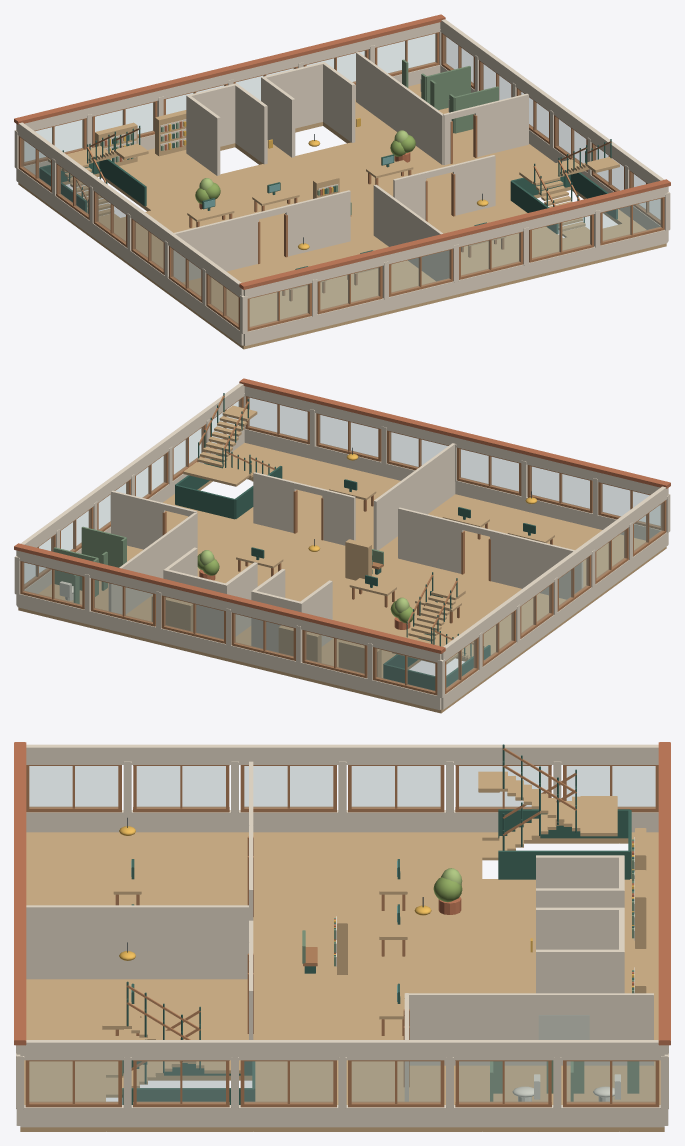
File: campus-3F.glb
3 views of the same model, one above another, from view 1: azimuth 30°, elevation 25°; view 2: azimuth 150°, elevation 25°; view 3: azimuth 270°, elevation 25° (orthographic). The views are drawn at different scales.
Visible parts, largest first — view 1: Inside_oak_3F, Inside_cream_3F, Shell_cream_3F, Shell_glass_3F, Shell_wood_3F, Shell_clay_3F, Inside_deep_3F, Inside_sage_3F, Inside_wood_3F, Inside_leaf_3F, Inside_ochre_3F; view 2: Inside_oak_3F, Shell_cream_3F, Shell_glass_3F, Inside_cream_3F, Shell_wood_3F, Shell_clay_3F, Inside_deep_3F, Inside_sage_3F, Inside_wood_3F, Inside_leaf_3F; view 3: Inside_oak_3F, Shell_cream_3F, Inside_cream_3F, Shell_glass_3F, Shell_wood_3F, Shell_clay_3F, Inside_deep_3F, Inside_wood_3F, Inside_sage_3F, Inside_glass_3F, Inside_ivory_3F.
Part boxes in pixels (x1,y1,x2,y2): Inside_oak_3F: [18, 83, 666, 349]; Inside_cream_3F: [100, 52, 528, 282]; Shell_cream_3F: [14, 19, 670, 345]; Shell_glass_3F: [21, 34, 661, 327]; Shell_wood_3F: [18, 32, 664, 331]; Shell_clay_3F: [14, 14, 670, 289]; Inside_deep_3F: [39, 124, 617, 269]; Inside_sage_3F: [100, 59, 498, 214]; Inside_wood_3F: [76, 114, 611, 301]; Inside_leaf_3F: [195, 135, 415, 204]; Inside_ochre_3F: [109, 118, 488, 249]; Inside_oak_3F: [18, 405, 666, 713]; Shell_cream_3F: [14, 383, 670, 709]; Shell_glass_3F: [23, 398, 663, 691]; Inside_cream_3F: [108, 443, 583, 652]; Shell_wood_3F: [20, 396, 666, 695]; Shell_clay_3F: [14, 378, 670, 653]; Inside_deep_3F: [175, 393, 535, 690]; Inside_sage_3F: [53, 526, 383, 603]; Inside_wood_3F: [162, 395, 552, 644]; Inside_leaf_3F: [197, 553, 414, 623]; Inside_oak_3F: [20, 771, 664, 1131]; Shell_cream_3F: [16, 744, 668, 1127]; Inside_cream_3F: [26, 761, 653, 1101]; Shell_glass_3F: [29, 766, 655, 1102]; Shell_wood_3F: [25, 765, 659, 1107]; Shell_clay_3F: [14, 742, 670, 1045]; Inside_deep_3F: [122, 744, 634, 1104]; Inside_wood_3F: [115, 748, 576, 1086]; Inside_sage_3F: [302, 839, 639, 1101]; Inside_glass_3F: [539, 1015, 589, 1039]; Inside_ivory_3F: [512, 1074, 620, 1101].
Bounding box in the file's own units: 26.3 × 4.94 × 24.46.
